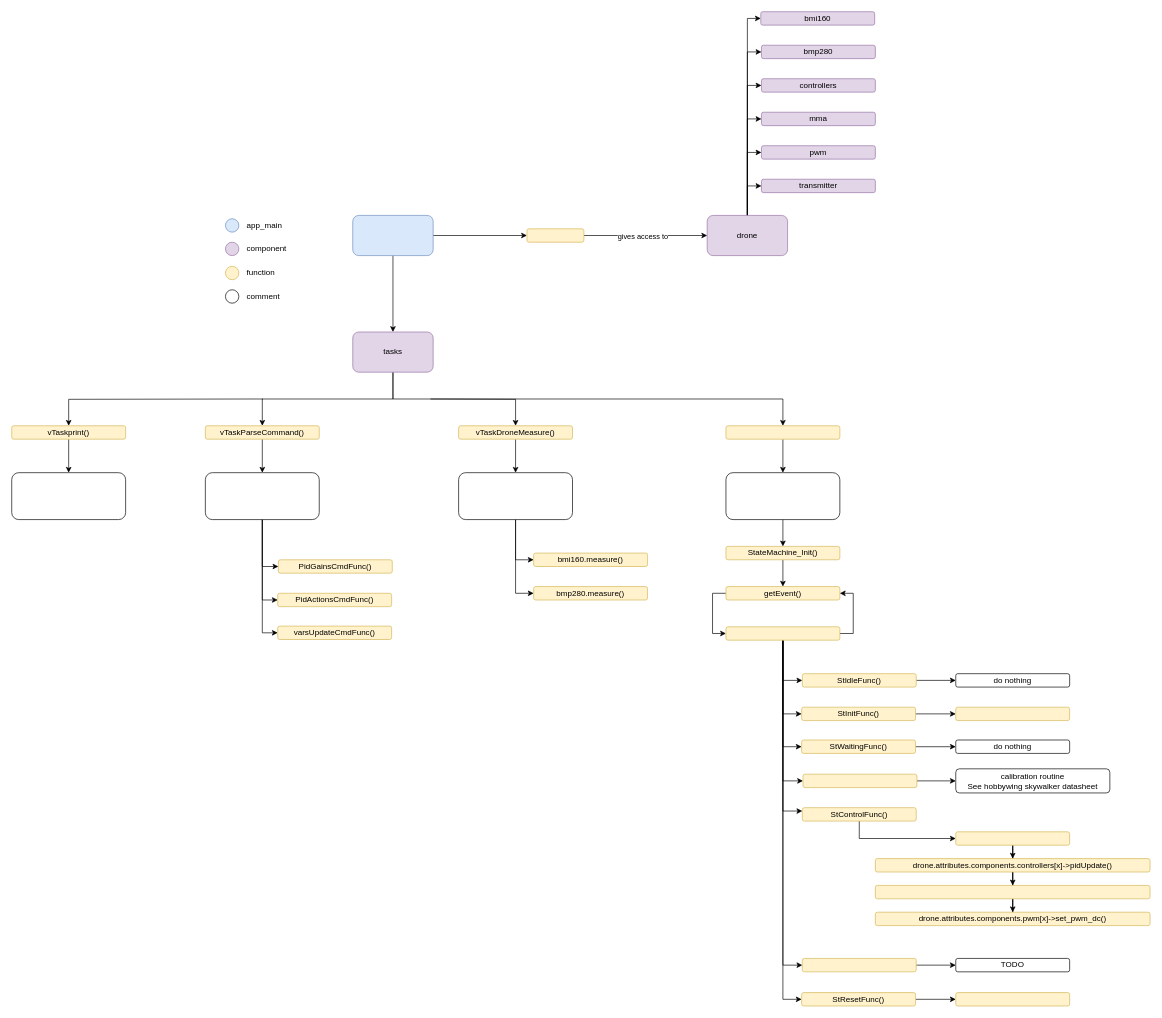
Image size: 1162x1018. Some labels were removed from this diagram. Each missing label, with the centre of its shape:
"Check which command was received" goes at point 262,496.
"Drone()" goes at point 555,235.
"drone.attributes.components.mma[x]->compute()" goes at point 1012,892.
"drone.init()" goes at point 1012,714.
"drone.update_states()" goes at point 1012,838.
"esp_restart()" goes at point 1012,999.
"main" goes at point 392,235.
"Run state machine" goes at point 782,496.
"Send data to SerialPlotter" goes at point 68,496.
"StateMachine_RunIteration()" goes at point 782,633.
"StCalibrationFunc()" goes at point 859,781.
"StPropCalibrationFunc()" goes at point 859,965.
"Update sensor registers with new measurements" goes at point 515,496.
"vTaskStateMachine_Run()" goes at point 782,432.
